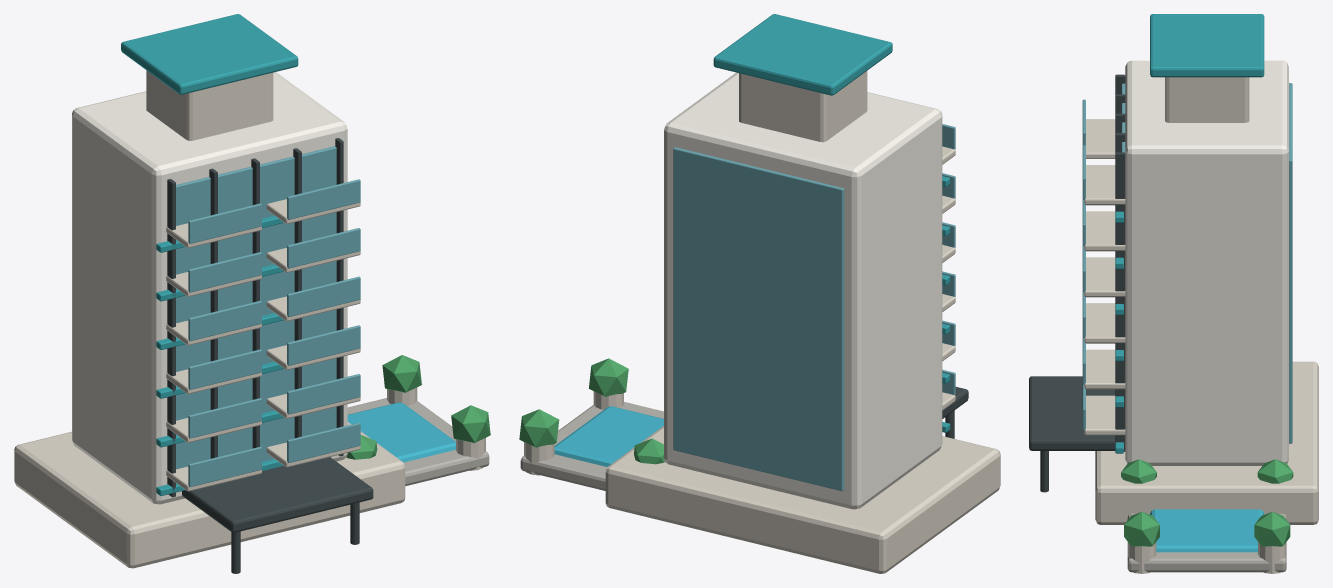
Rendered from condo.glb.
3 renders of one model, left to right at view 1: azimuth 30°, elevation 25°; view 2: azimuth 150°, elevation 25°; view 3: azimuth 270°, elevation 25°, orthographic. The views are drawn at different scales.
Visible parts, largest first — view 1: Tower, CurtainWall, Podium, RoofShade, ArrivalCanopy, RoofPavilion, Pool, PoolDeck, VerticalFin, GlassRail.004, GlassRail.009, GlassRail.010 (+27 smaller); view 2: CurtainWall.001, Tower, Podium, RoofShade, RoofPavilion, Pool, PoolDeck, Landscape shrub.003, Landscape shrub.001, Landscape shrub.002; view 3: Tower, Podium, RoofShade, ArrivalCanopy, Pool, RoofPavilion, PoolDeck, VerticalFin.004, CurtainWall.001, BalconyDeck.001, BalconyDeck.003, BalconyDeck.005 (+11 smaller).
Boxes of the visible parts, x1=… form: Tower: x1=72, y1=72, x2=347, y2=504; CurtainWall: x1=176, y1=146, x2=336, y2=469; Podium: x1=14, y1=422, x2=405, y2=568; RoofShade: x1=121, y1=14, x2=298, y2=94; ArrivalCanopy: x1=182, y1=457, x2=373, y2=532; RoofPavilion: x1=146, y1=70, x2=273, y2=140; Pool: x1=347, y1=402, x2=455, y2=462; PoolDeck: x1=347, y1=398, x2=489, y2=486; VerticalFin: x1=167, y1=179, x2=175, y2=497; GlassRail.004: x1=188, y1=349, x2=261, y2=389; GlassRail.009: x1=287, y1=228, x2=360, y2=268; GlassRail.010: x1=188, y1=203, x2=261, y2=243; CurtainWall.001: x1=673, y1=147, x2=844, y2=491; Tower: x1=664, y1=72, x2=942, y2=509; Podium: x1=605, y1=426, x2=1000, y2=573; RoofShade: x1=713, y1=14, x2=892, y2=95; RoofPavilion: x1=739, y1=71, x2=867, y2=142; Pool: x1=554, y1=406, x2=663, y2=466; PoolDeck: x1=520, y1=402, x2=663, y2=490; Landscape shrub.003: x1=519, y1=409, x2=559, y2=447; Landscape shrub.001: x1=589, y1=358, x2=628, y2=396; Landscape shrub.002: x1=634, y1=438, x2=664, y2=464; Tower: x1=1125, y1=60, x2=1288, y2=465; Podium: x1=1095, y1=361, x2=1318, y2=524; RoofShade: x1=1150, y1=14, x2=1264, y2=77; ArrivalCanopy: x1=1029, y1=376, x2=1115, y2=450; Pool: x1=1150, y1=509, x2=1264, y2=552; RoofPavilion: x1=1165, y1=77, x2=1249, y2=122; PoolDeck: x1=1127, y1=513, x2=1286, y2=572; VerticalFin.004: x1=1115, y1=152, x2=1125, y2=451; CurtainWall.001: x1=1289, y1=83, x2=1292, y2=443; BalconyDeck.001: x1=1084, y1=395, x2=1125, y2=435; BalconyDeck.003: x1=1084, y1=349, x2=1125, y2=389; BalconyDeck.005: x1=1084, y1=303, x2=1125, y2=342.
Bounding box in the file's own units: 6.75 × 7.51 × 4.67.
